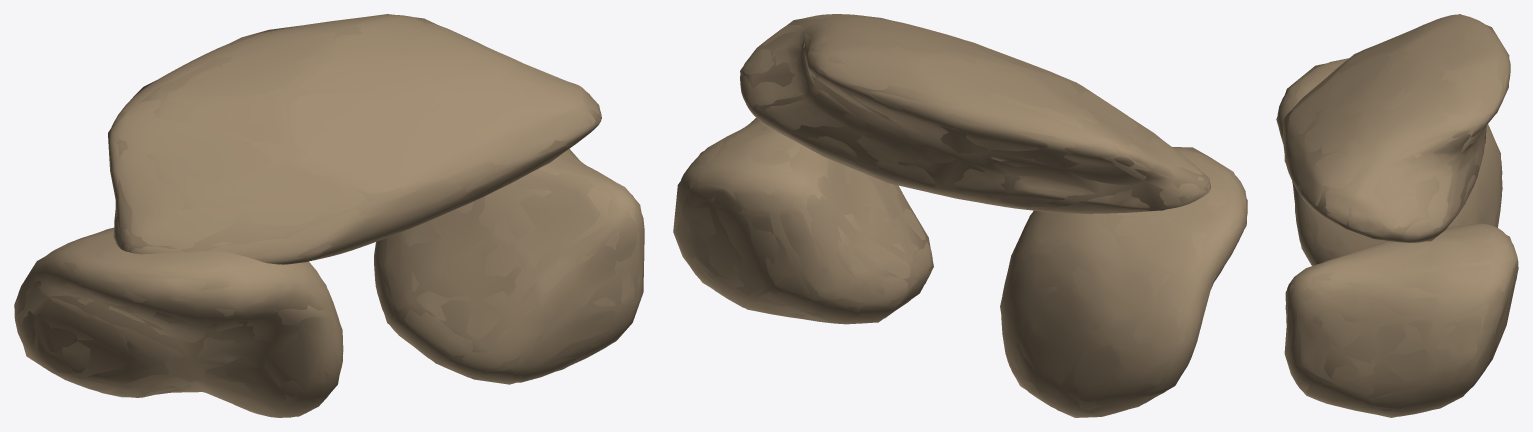
File: rock_formation_4.glb
3 renders of one model, left to right at view 1: azimuth 30°, elevation 25°; view 2: azimuth 150°, elevation 25°; view 3: azimuth 270°, elevation 25°, orthographic. The views are drawn at different scales.
Visible parts, largest first — view 1: Rock_2, Rock_1, Rock_0, Rock_2_Far, Rock_0_Far, Rock_1_Far; view 2: Rock_2, Rock_0, Rock_1, Rock_2_Far, Rock_1_Far, Rock_0_Far; view 3: Rock_2, Rock_1, Rock_1_Far, Rock_2_Far, Rock_0, Rock_0_Far.
Part boxes in pixels (bbox=[...]): Rock_2: bbox=[108, 14, 601, 264]; Rock_1: bbox=[374, 149, 644, 382]; Rock_0: bbox=[14, 228, 343, 417]; Rock_2_Far: bbox=[108, 14, 601, 264]; Rock_0_Far: bbox=[14, 227, 343, 417]; Rock_1_Far: bbox=[374, 149, 644, 384]; Rock_2: bbox=[740, 14, 1210, 213]; Rock_0: bbox=[1001, 147, 1247, 417]; Rock_1: bbox=[675, 118, 932, 324]; Rock_2_Far: bbox=[740, 14, 1210, 214]; Rock_1_Far: bbox=[673, 118, 933, 323]; Rock_0_Far: bbox=[1000, 147, 1247, 417]; Rock_2: bbox=[1283, 14, 1510, 242]; Rock_1: bbox=[1285, 223, 1518, 416]; Rock_1_Far: bbox=[1284, 224, 1518, 417]; Rock_2_Far: bbox=[1284, 14, 1509, 242]; Rock_0: bbox=[1277, 58, 1502, 265]; Rock_0_Far: bbox=[1276, 63, 1502, 265].
Size of the model in its own units: 9.31 by 5.33 by 4.22.
